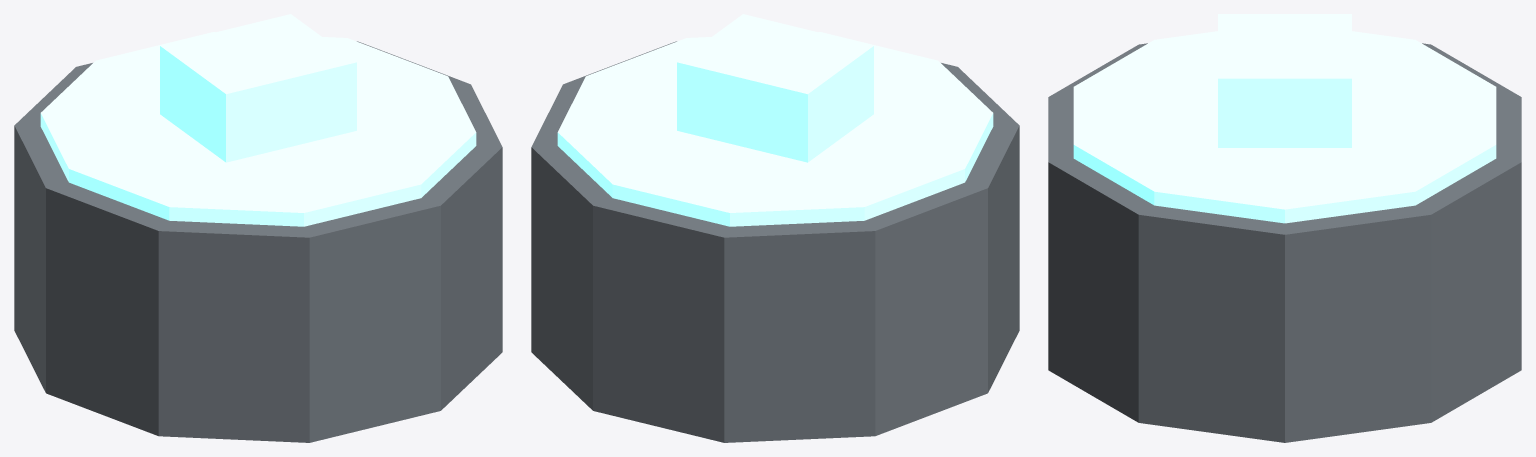
File: mech-hangar-and-battle-frames-holo-map-base-f2d0d75f__26993.glb
3 renders of one model, left to right at view 1: azimuth 30°, elevation 25°; view 2: azimuth 150°, elevation 25°; view 3: azimuth 270°, elevation 25°, orthographic.
Visible parts, largest first — view 1: holo-map-base; view 2: holo-map-base; view 3: holo-map-base.
Part boxes in pixels (<box>): holo-map-base: <box>14,14,502,442</box>; holo-map-base: <box>531,14,1019,442</box>; holo-map-base: <box>1048,14,1521,442</box>.
Size of the model in its own units: 1.3 by 0.84 by 1.24.
